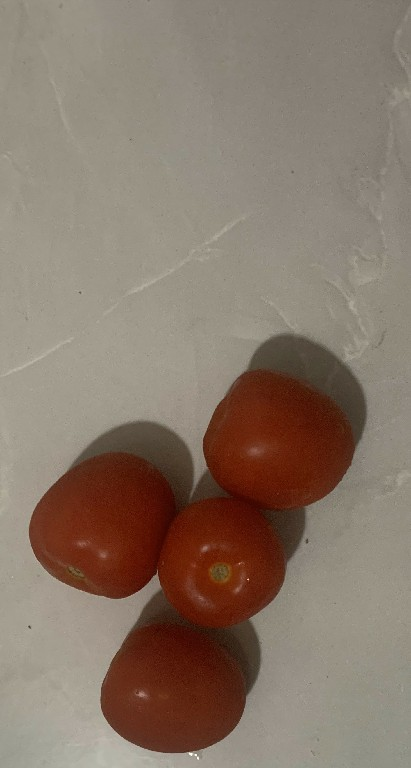OK: (193, 367, 360, 516), (31, 448, 172, 598), (157, 497, 290, 621), (101, 623, 245, 736)
